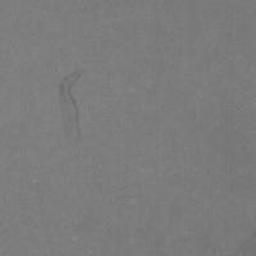Water spot: (56, 67, 91, 145), (228, 227, 256, 256)
